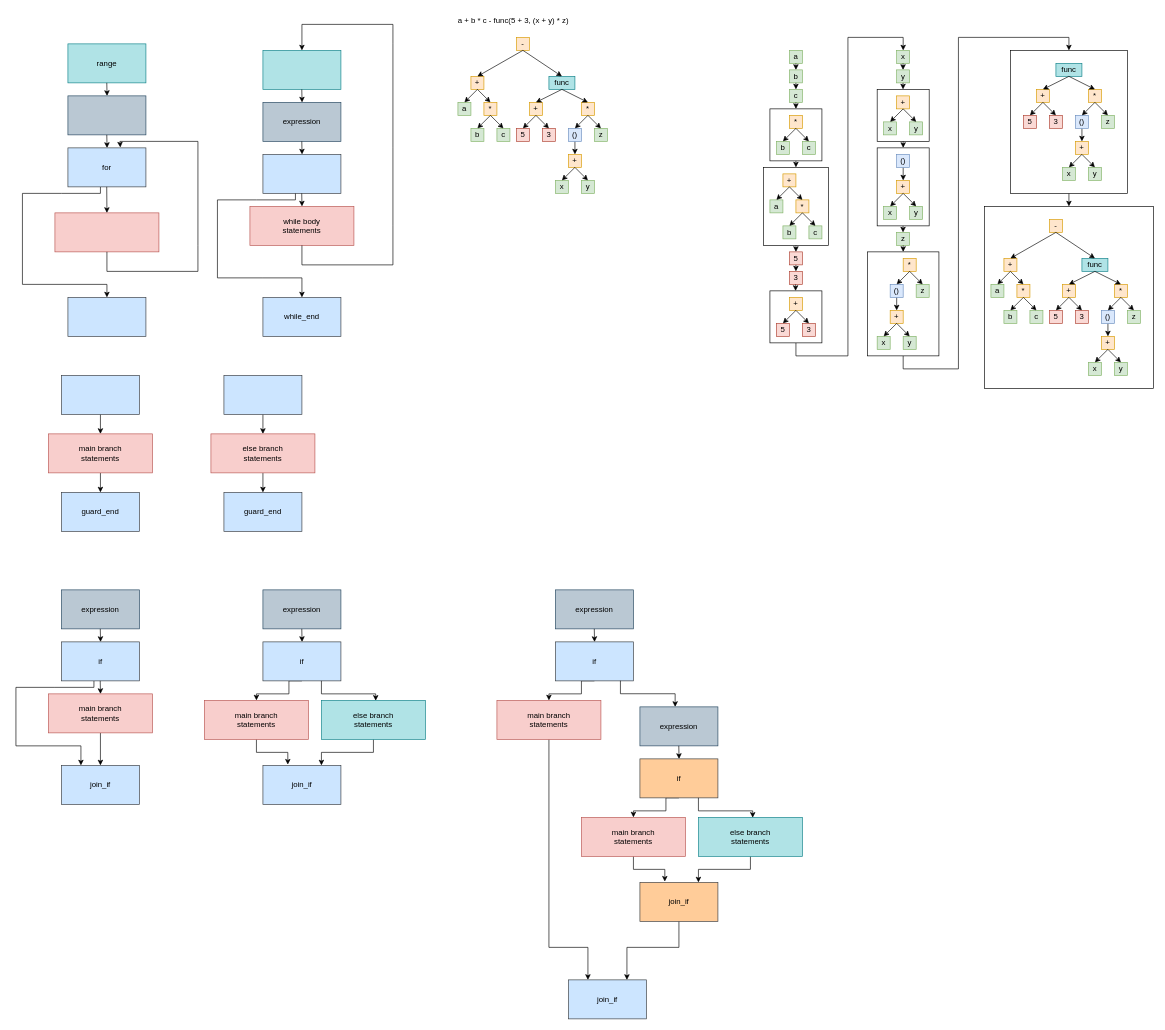
The diagram is 1165 pixels wide and 1030 high, and some of its shapes have lost their labels. Here are the shapes that lost their labels. From the top down, the centre of each, then its label:
(301,69): while
(106,115): iter_var
(301,173): while_body
(106,232): for loop body statements
(106,316): for_end
(100,394): guard_main
(262,394): guard_else
